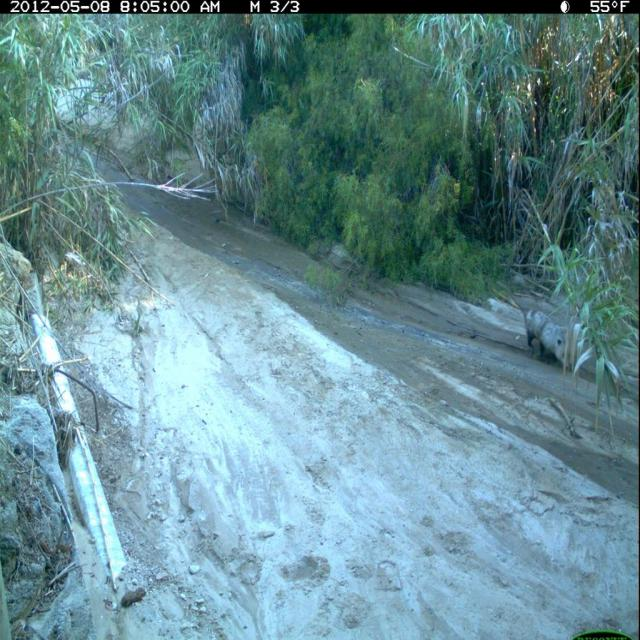opossum: (506, 286, 577, 375)
